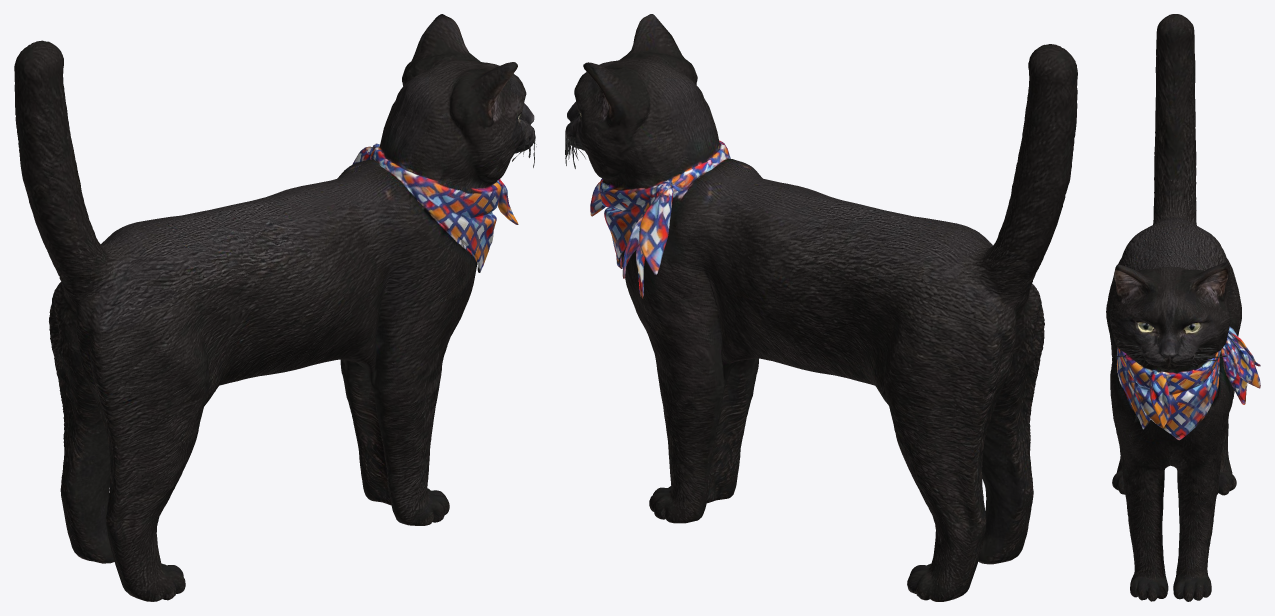
File: JRMOUSER.glb
3 renders of one model, left to right at view 1: azimuth 30°, elevation 25°; view 2: azimuth 150°, elevation 25°; view 3: azimuth 270°, elevation 25°, orthographic. The views are drawn at different scales.
Parts seen in each view (by area): view 1: tripo_node_3b20bb29-4d10-4ee2-97a6-87b1c79a0152; view 2: tripo_node_3b20bb29-4d10-4ee2-97a6-87b1c79a0152; view 3: tripo_node_3b20bb29-4d10-4ee2-97a6-87b1c79a0152.
Part boxes in pixels (left/top/right/bottom): tripo_node_3b20bb29-4d10-4ee2-97a6-87b1c79a0152: left=14, top=14, right=536, bottom=601; tripo_node_3b20bb29-4d10-4ee2-97a6-87b1c79a0152: left=565, top=14, right=1077, bottom=601; tripo_node_3b20bb29-4d10-4ee2-97a6-87b1c79a0152: left=1106, top=14, right=1260, bottom=601.
Bounding box in the file's own units: 0.9667 × 0.9998 × 0.3193.
Materials: 1 (1 with a texture image).
